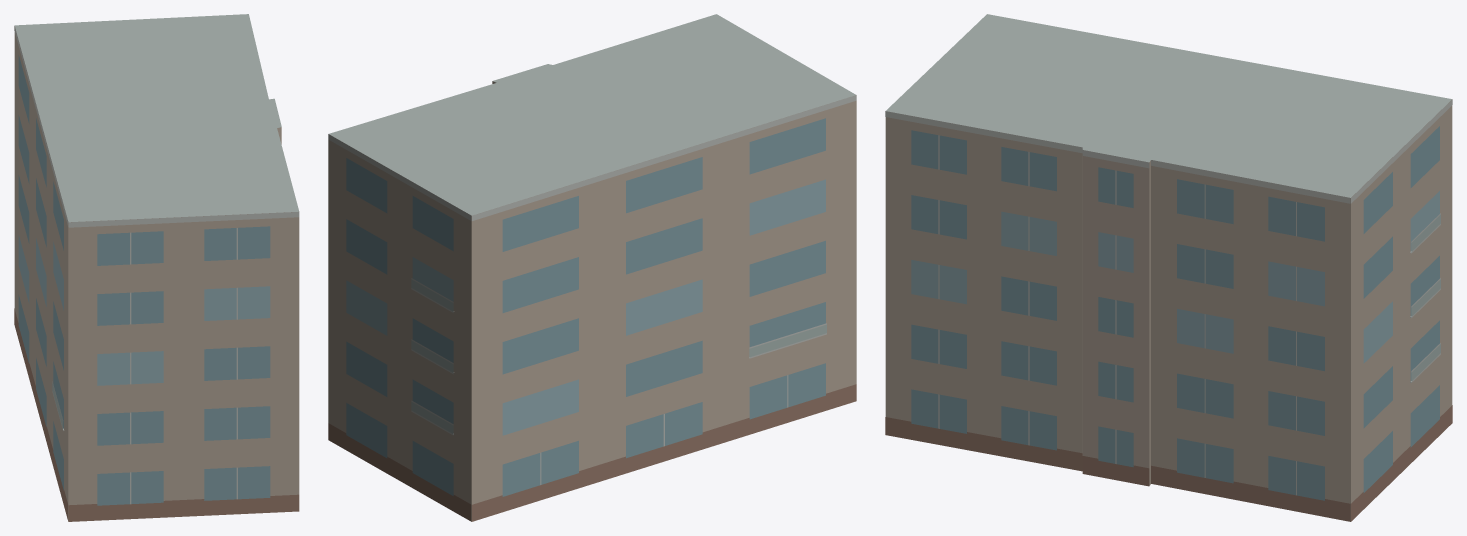
Rendered from survey-upis-32740063.glb.
The picture shows the model from 3 angles, left to right: view 1: azimuth 30°, elevation 25°; view 2: azimuth 150°, elevation 25°; view 3: azimuth 270°, elevation 25°; orthographic projection. The views are drawn at different scales.
Parts seen in each view (by area): view 1: survey-upis-32740063.tmp; view 2: survey-upis-32740063.tmp; view 3: survey-upis-32740063.tmp.
Part boxes in pixels (x1,y1,x2,y2): survey-upis-32740063.tmp: [14, 14, 299, 521]; survey-upis-32740063.tmp: [328, 14, 856, 521]; survey-upis-32740063.tmp: [885, 14, 1452, 521].
Bounding box in the file's own units: 16.2 × 13.3 × 21.1.
